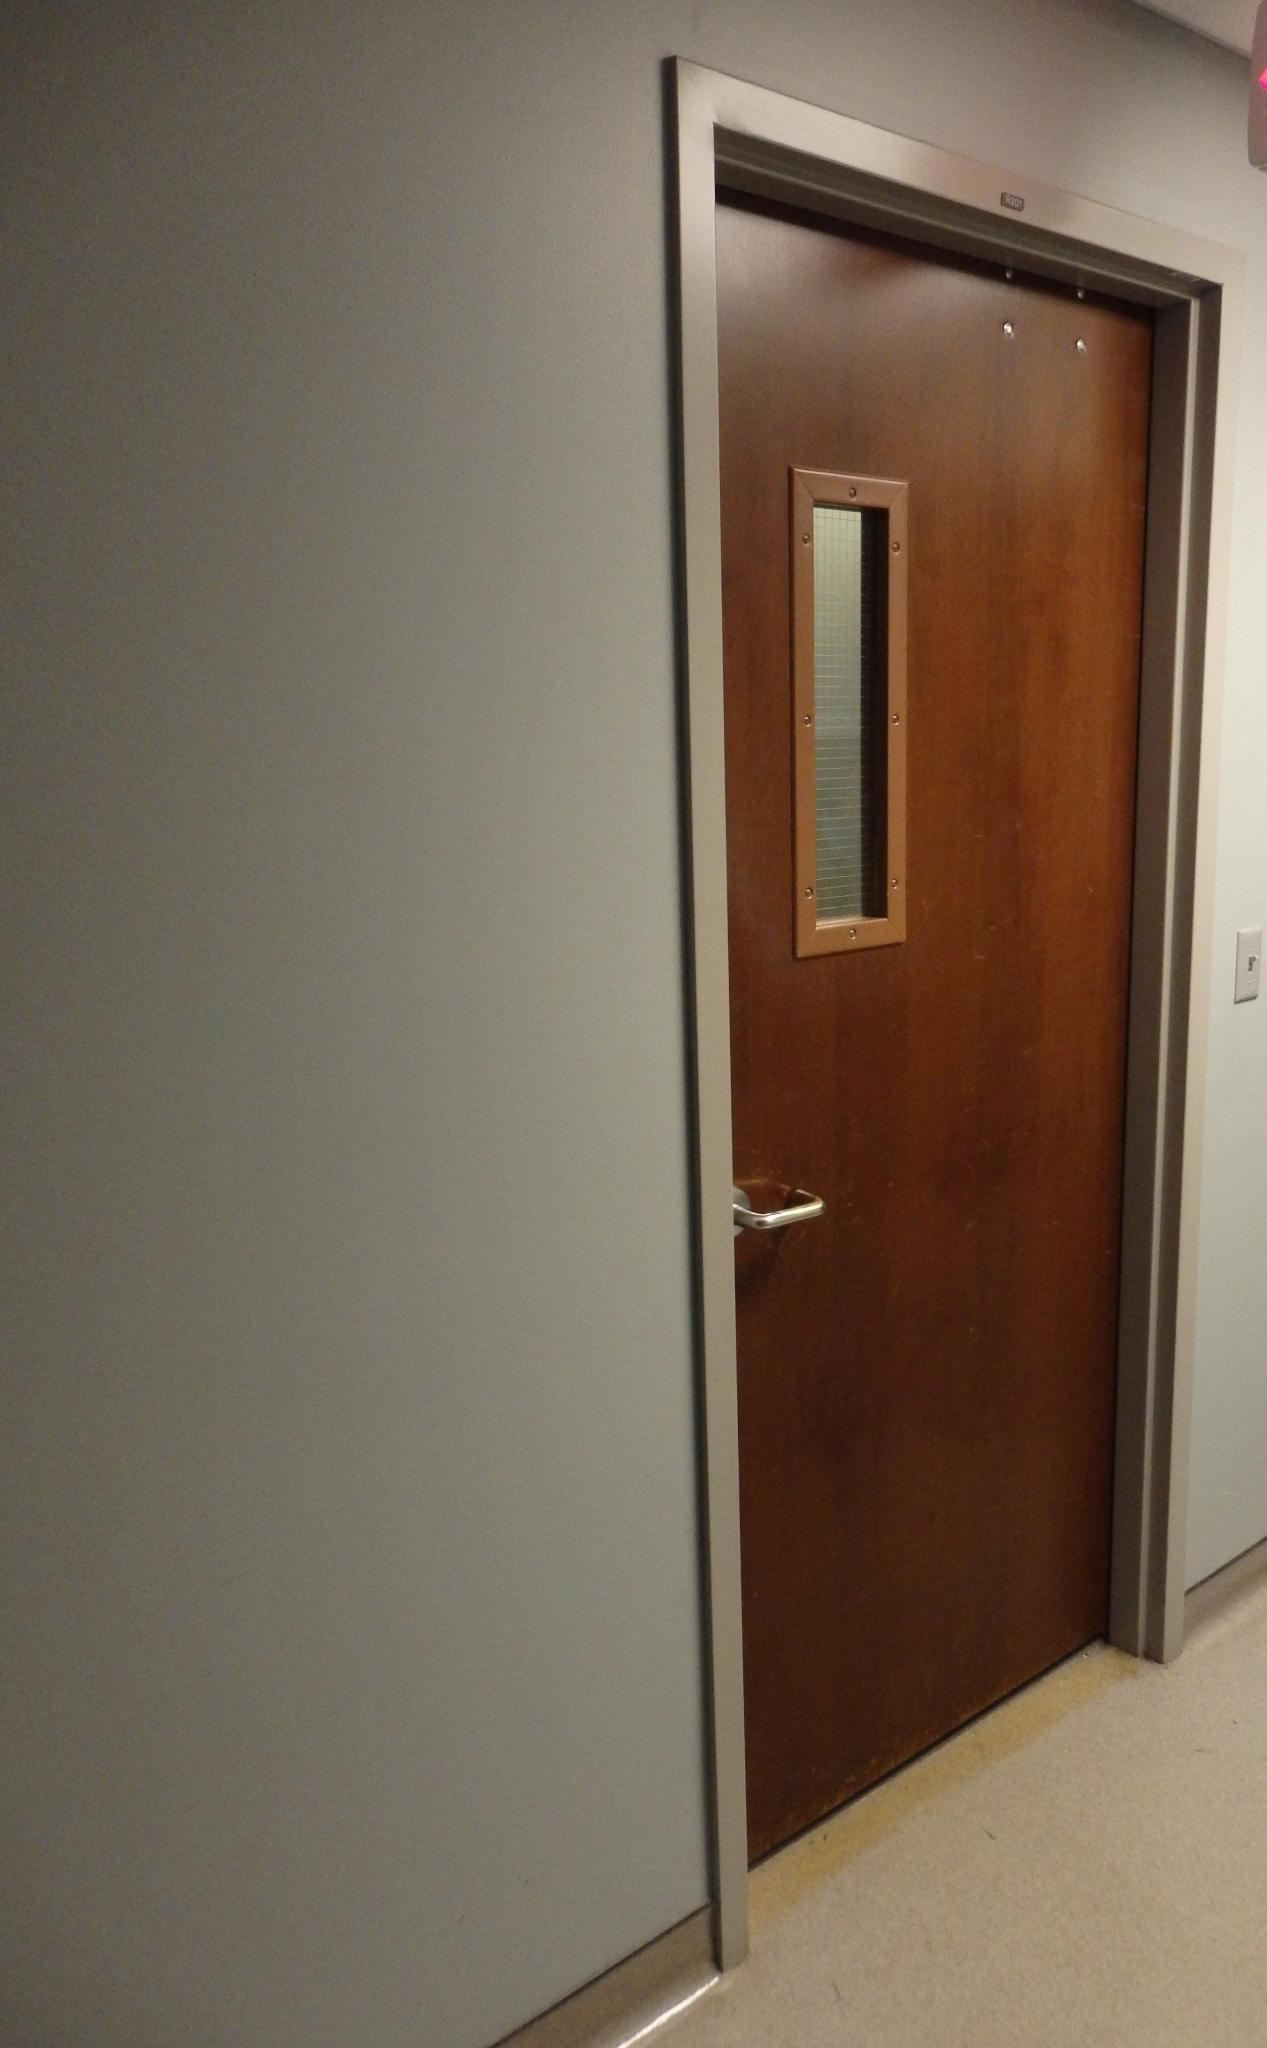door: (748, 224, 1112, 1597)
handle: (730, 1151, 834, 1277)
